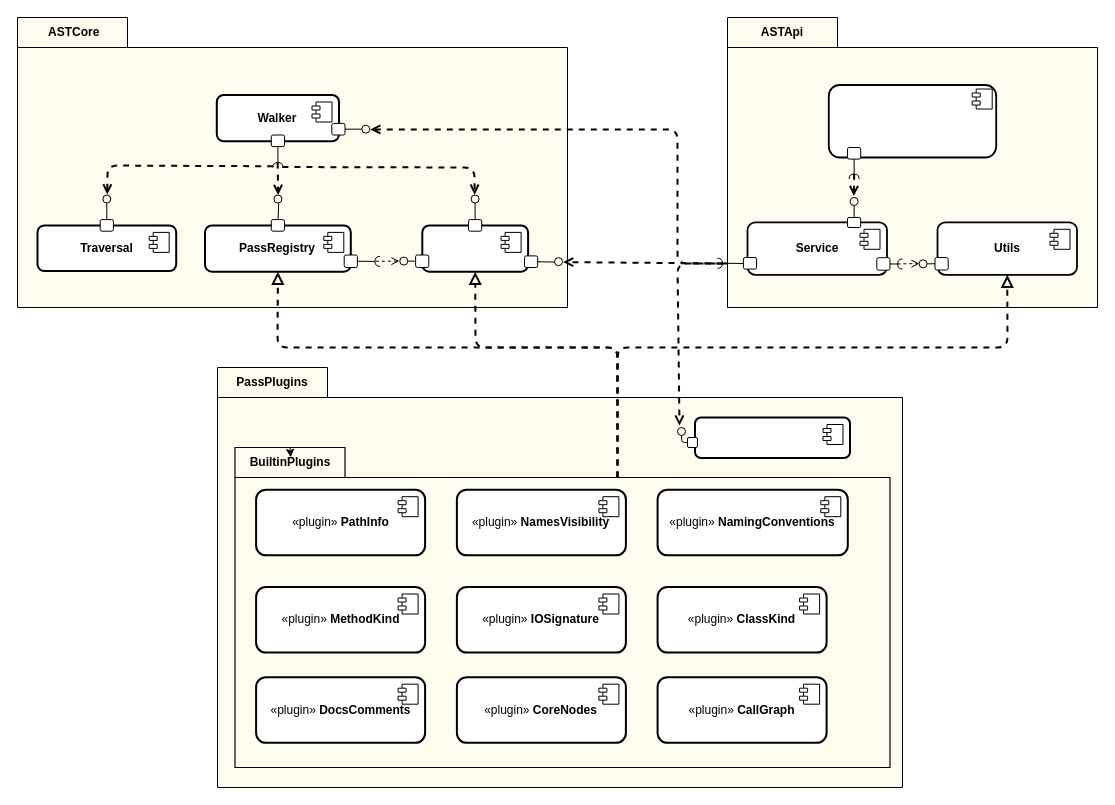
This 1115x805 diagram has some shape labels left out. Each missing label, with the centre of its shape:
API + run_ast_analysis () + main(): pixel 912 121
Loader: pixel 772 437
Model: pixel 475 248
